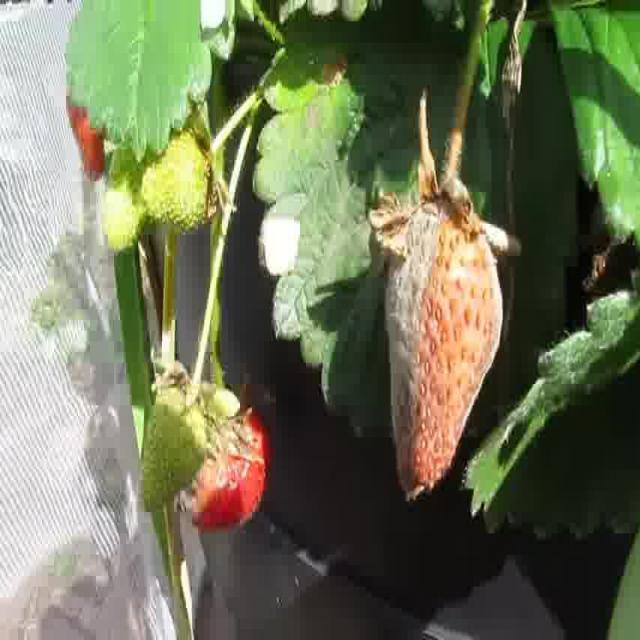Fruta sana: (195, 403, 271, 530), (136, 374, 204, 514)
Moho gris: (378, 173, 503, 504)
